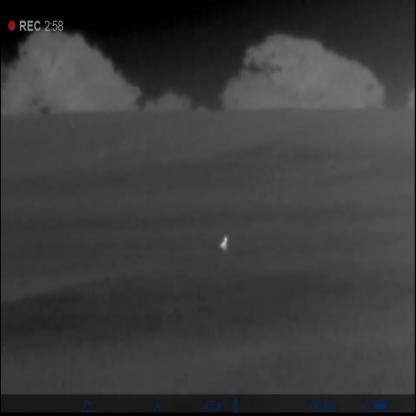rehkitze: (220, 236, 231, 254)
